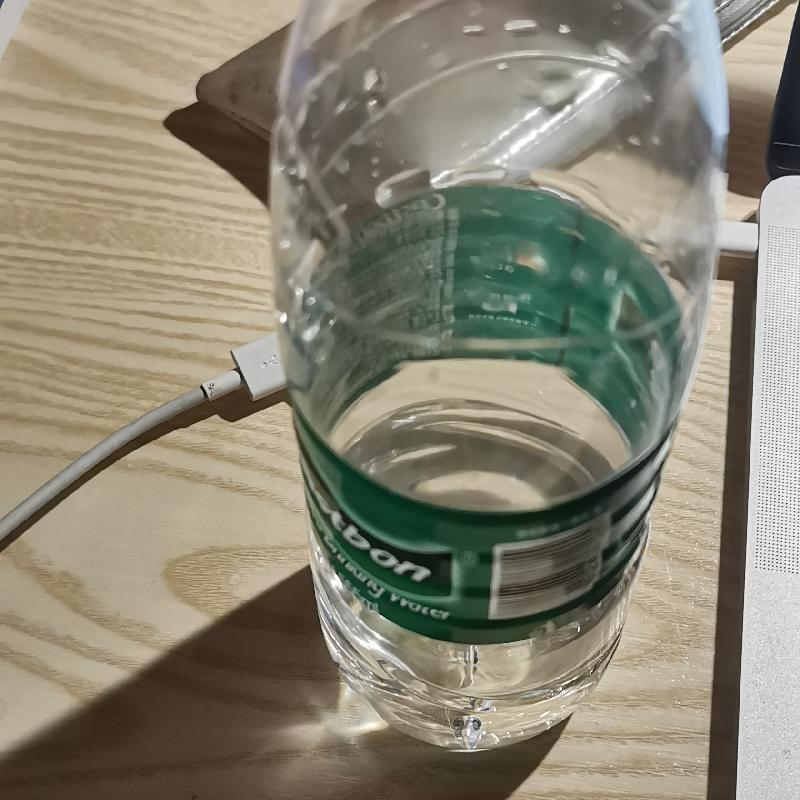bottles: (263, 7, 722, 736)
